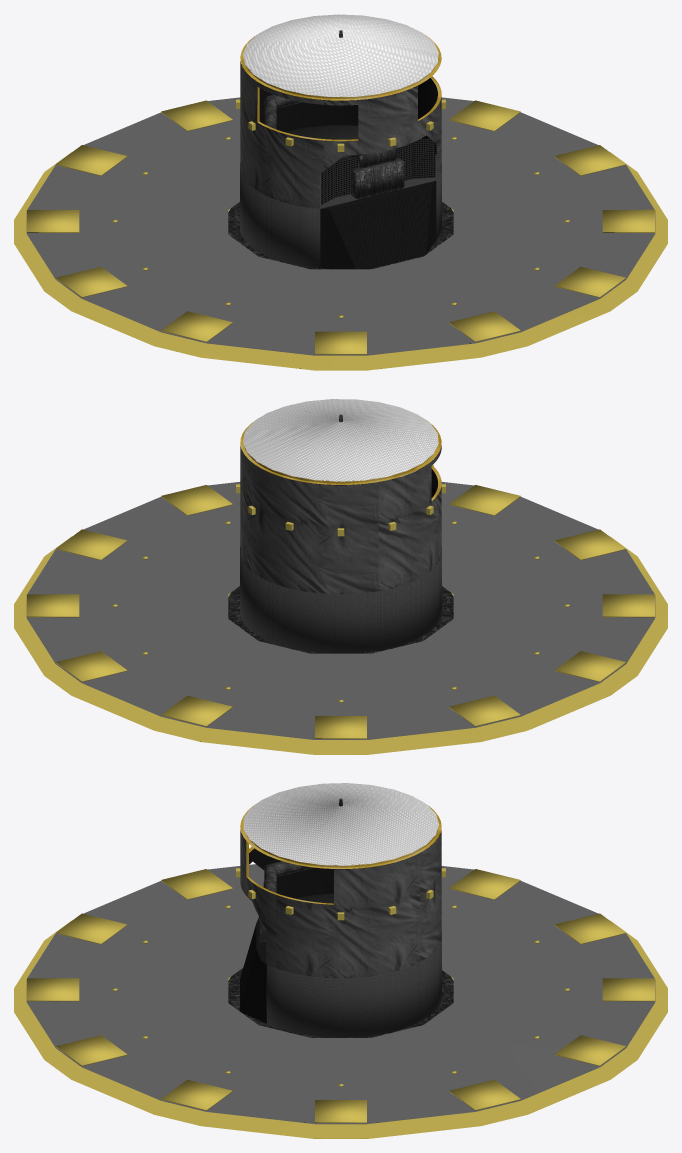
Rendered from gaia.glb.
3 renders of one model, top to bottom at view 1: azimuth 30°, elevation 25°; view 2: azimuth 150°, elevation 25°; view 3: azimuth 270°, elevation 25°, orthographic.
Parts seen in each view (by area): view 1: Sunshield-top_Circle, GoldenSquares_Cube, Sunshield-bottom_Circle, Top_Circle, TTS_Cylinder, Instr1_Cube, ServiceModule-bottom_Cylinder, TTS-inner_Cylinder, InstrBG_Plane, Instr2_Cube, GoldenBorders_Cylinder, Floor_Circle (+1 smaller); view 2: Sunshield-top_Circle, TTS_Cylinder, GoldenSquares_Cube, Sunshield-bottom_Circle, Top_Circle, ServiceModule-bottom_Cylinder, Floor_Circle, GoldenBorders_Cylinder; view 3: Sunshield-top_Circle, TTS_Cylinder, GoldenSquares_Cube, Sunshield-bottom_Circle, Top_Circle, ServiceModule-bottom_Cylinder, Instr1_Cube, TTS-inner_Cylinder, GoldenBorders_Cylinder, Floor_Circle, Torus_Torus.
Part boxes in pixels (x1,y1,x2,y2): Sunshield-top_Circle: [26, 97, 655, 355]; GoldenSquares_Cube: [27, 100, 654, 354]; Sunshield-bottom_Circle: [14, 152, 667, 370]; Top_Circle: [243, 14, 438, 96]; TTS_Cylinder: [240, 61, 441, 208]; Instr1_Cube: [320, 180, 436, 269]; ServiceModule-bottom_Cylinder: [240, 125, 441, 268]; TTS-inner_Cylinder: [241, 64, 438, 154]; InstrBG_Plane: [321, 138, 435, 205]; Instr2_Cube: [351, 148, 404, 199]; GoldenBorders_Cylinder: [240, 35, 441, 141]; Floor_Circle: [228, 202, 453, 269]; Sunshield-top_Circle: [26, 482, 655, 739]; TTS_Cylinder: [240, 445, 441, 594]; GoldenSquares_Cube: [27, 485, 654, 738]; Sunshield-bottom_Circle: [14, 536, 667, 754]; Top_Circle: [243, 399, 438, 481]; ServiceModule-bottom_Cylinder: [240, 547, 441, 653]; Floor_Circle: [228, 586, 453, 653]; GoldenBorders_Cylinder: [240, 417, 441, 500]; Sunshield-top_Circle: [26, 864, 655, 1124]; TTS_Cylinder: [240, 829, 441, 978]; GoldenSquares_Cube: [27, 869, 654, 1122]; Sunshield-bottom_Circle: [14, 920, 667, 1138]; Top_Circle: [243, 783, 438, 865]; ServiceModule-bottom_Cylinder: [266, 893, 441, 1037]; Instr1_Cube: [240, 917, 266, 1023]; TTS-inner_Cylinder: [241, 833, 440, 898]; GoldenBorders_Cylinder: [240, 803, 441, 904]; Floor_Circle: [228, 968, 453, 1037]; Torus_Torus: [264, 861, 398, 892].
Size of the model in its own units: 1 by 0.3476 by 1.
Materials: 16 (12 with a texture image).
